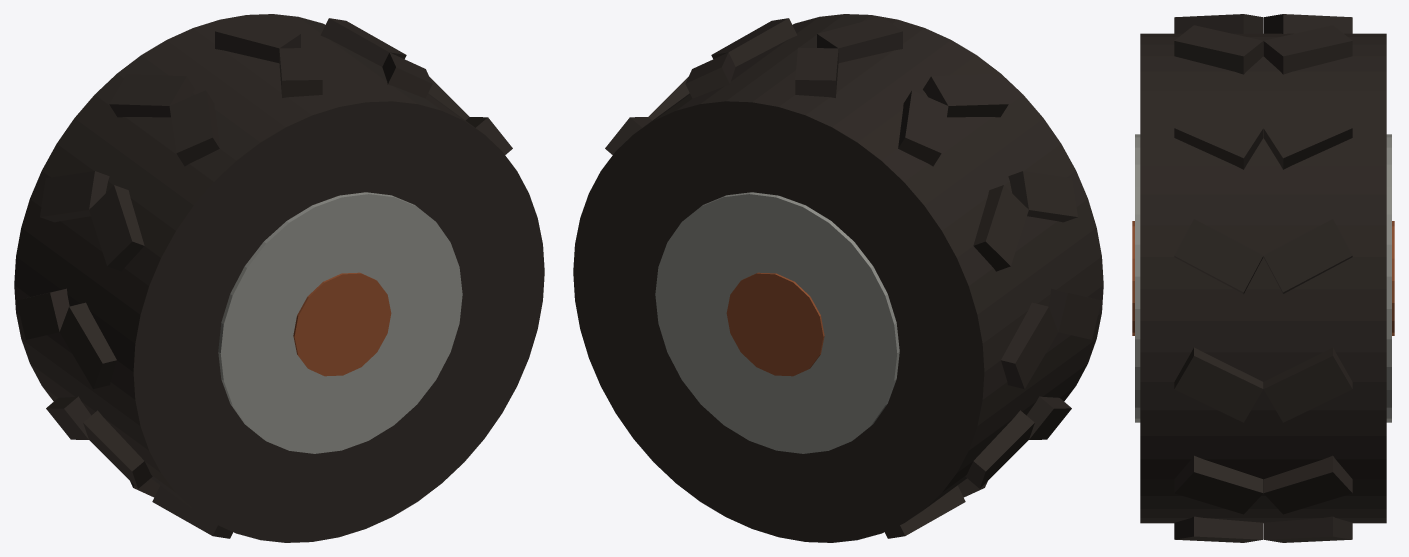
Rendered from wheel.glb.
3 renders of one model, left to right at view 1: azimuth 30°, elevation 25°; view 2: azimuth 150°, elevation 25°; view 3: azimuth 270°, elevation 25°, orthographic. The views are drawn at different scales.
Visible parts, largest first — view 1: wheel; view 2: wheel; view 3: wheel.
Boxes of the visible parts, <box> form: wheel: <box>14,14,544,542</box>; wheel: <box>573,14,1103,542</box>; wheel: <box>1132,14,1394,542</box>.
Bounding box in the file's own units: 2 × 2 × 1.
